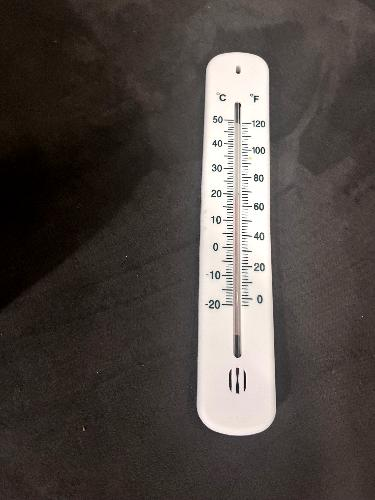thermo: (197, 50, 283, 424)
